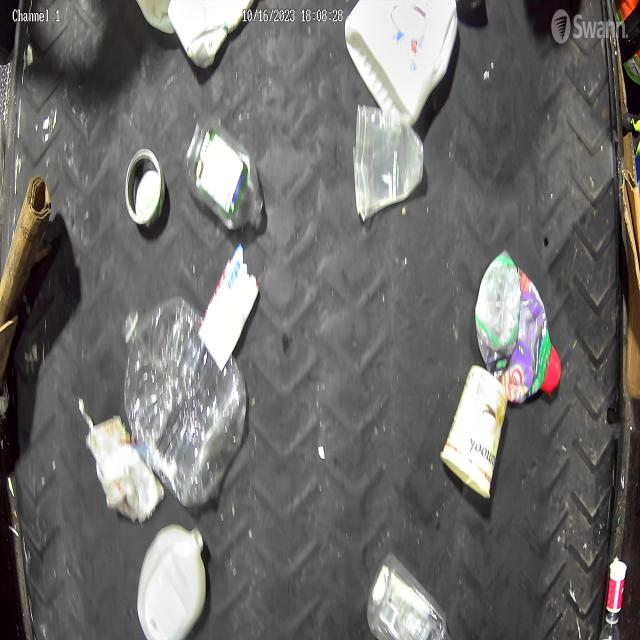can: (126, 149, 164, 228)
milk_jug: (344, 0, 460, 118)
non_white_jug: (475, 251, 560, 397)
